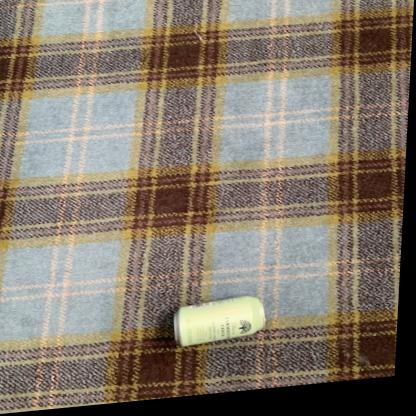trash: (174, 296, 264, 345)
